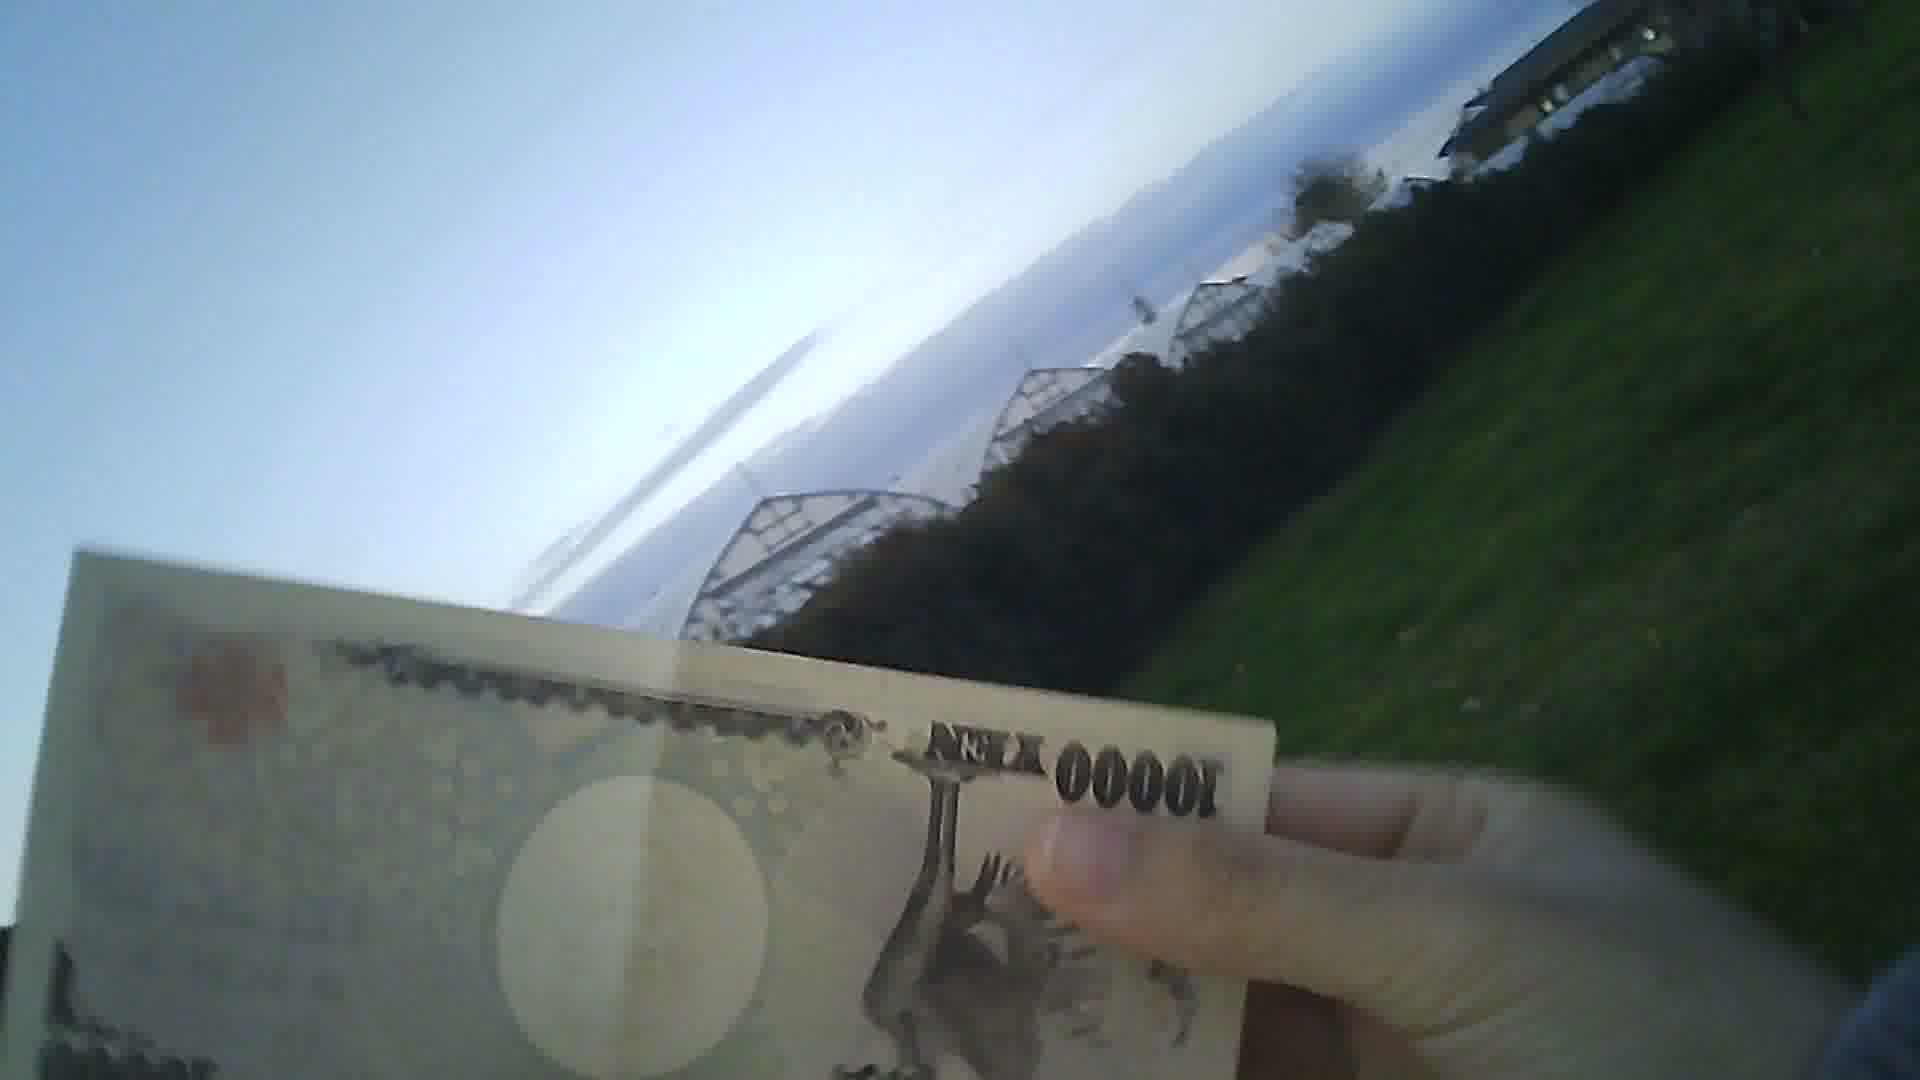10,000 Yen: (18, 541, 1247, 1079)
